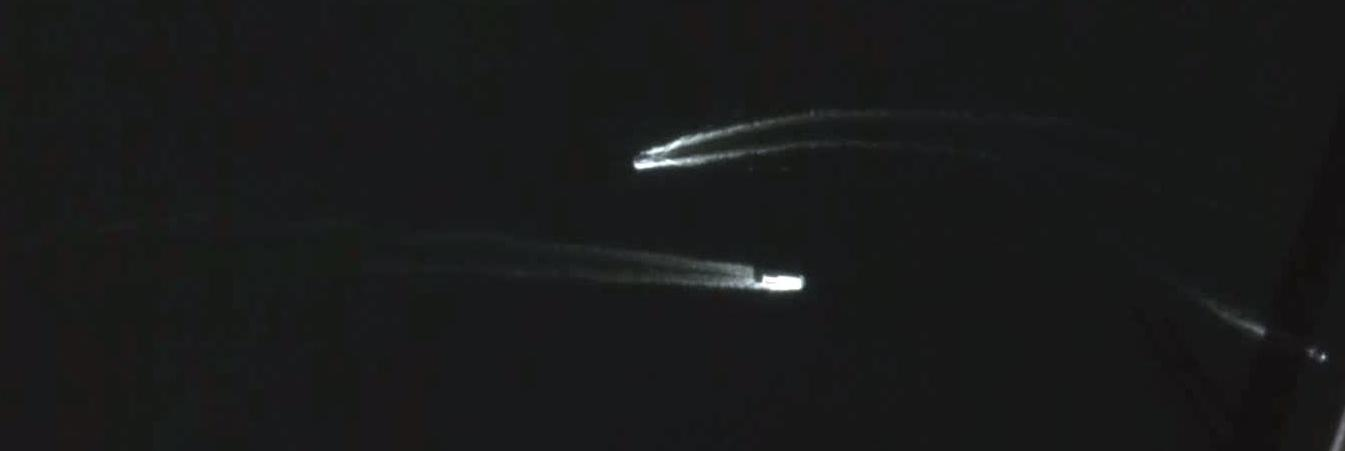person: (760, 274, 805, 292), (1299, 340, 1330, 364), (631, 153, 654, 163)
